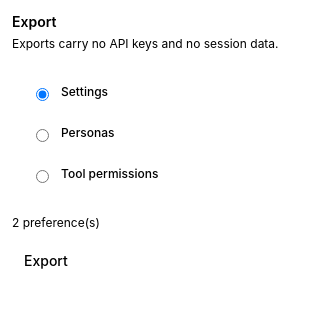
Test: a host that refuses with nothing to say still reports the failure
The image size is (332, 330).
Step 1. Click the button "Export" → (46,261), box [12, 243, 80, 279]
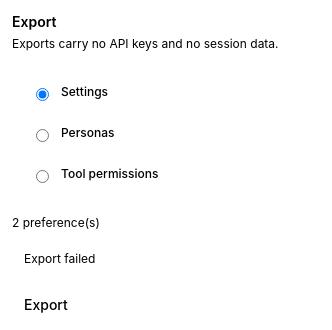
Now the text "Export failed" is shown, box [24, 251, 96, 266]
